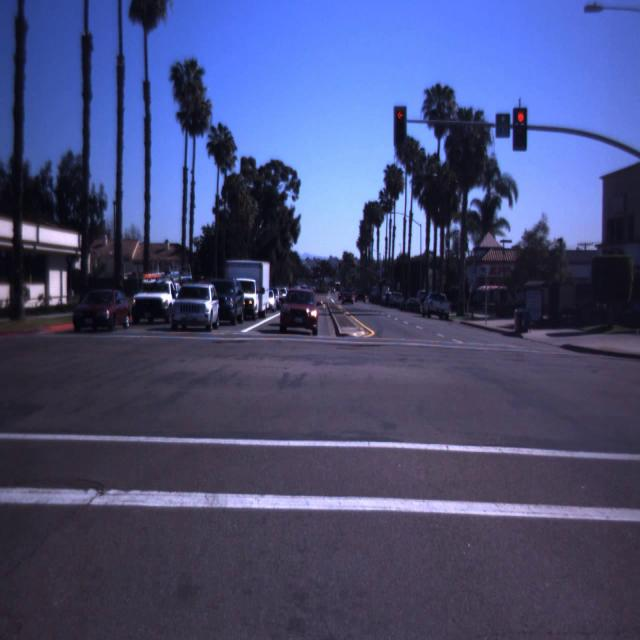kirmizi: (512, 107, 527, 151), (394, 106, 406, 147)
